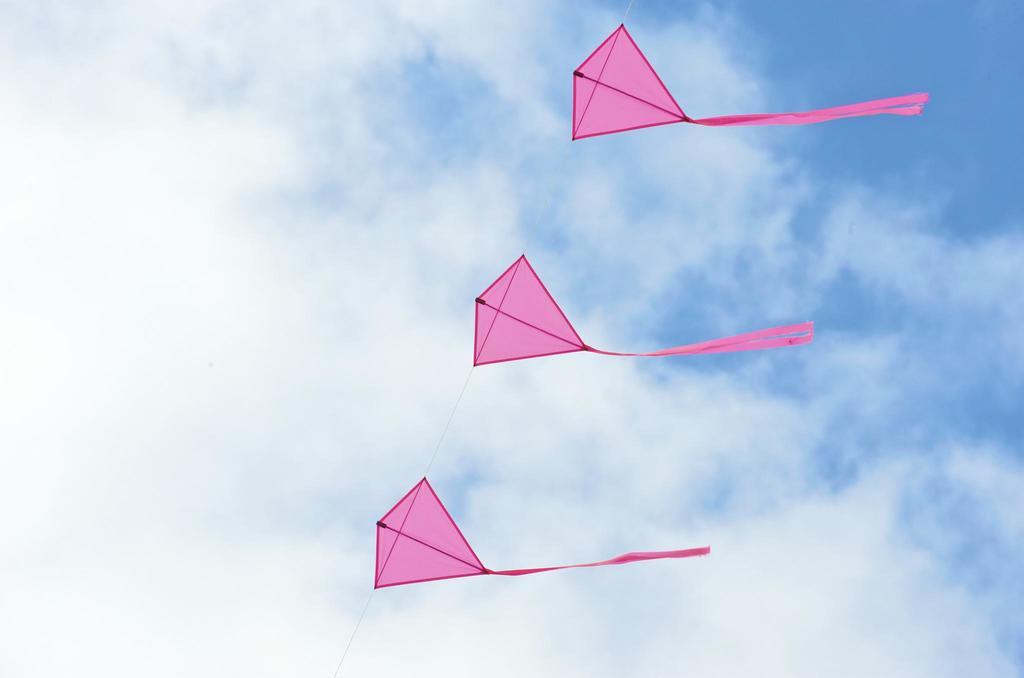kite: (551, 20, 939, 165), (450, 257, 846, 389), (358, 467, 741, 602)
